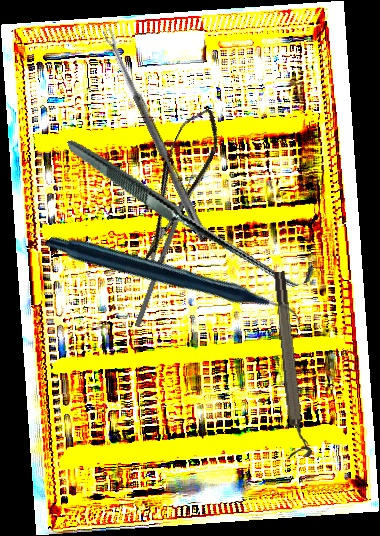Fixation Ring: (270, 270, 313, 459)
Handpiece: (44, 147, 302, 417)
Hook Surgical: (67, 81, 317, 340)
Micro Scissor: (121, 101, 231, 277)
Pusher: (134, 162, 200, 328)
Surgical Spoon: (102, 27, 210, 243)
